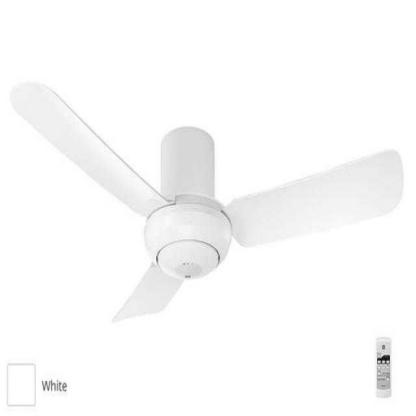ceiling-fan: (7, 80, 404, 321)
